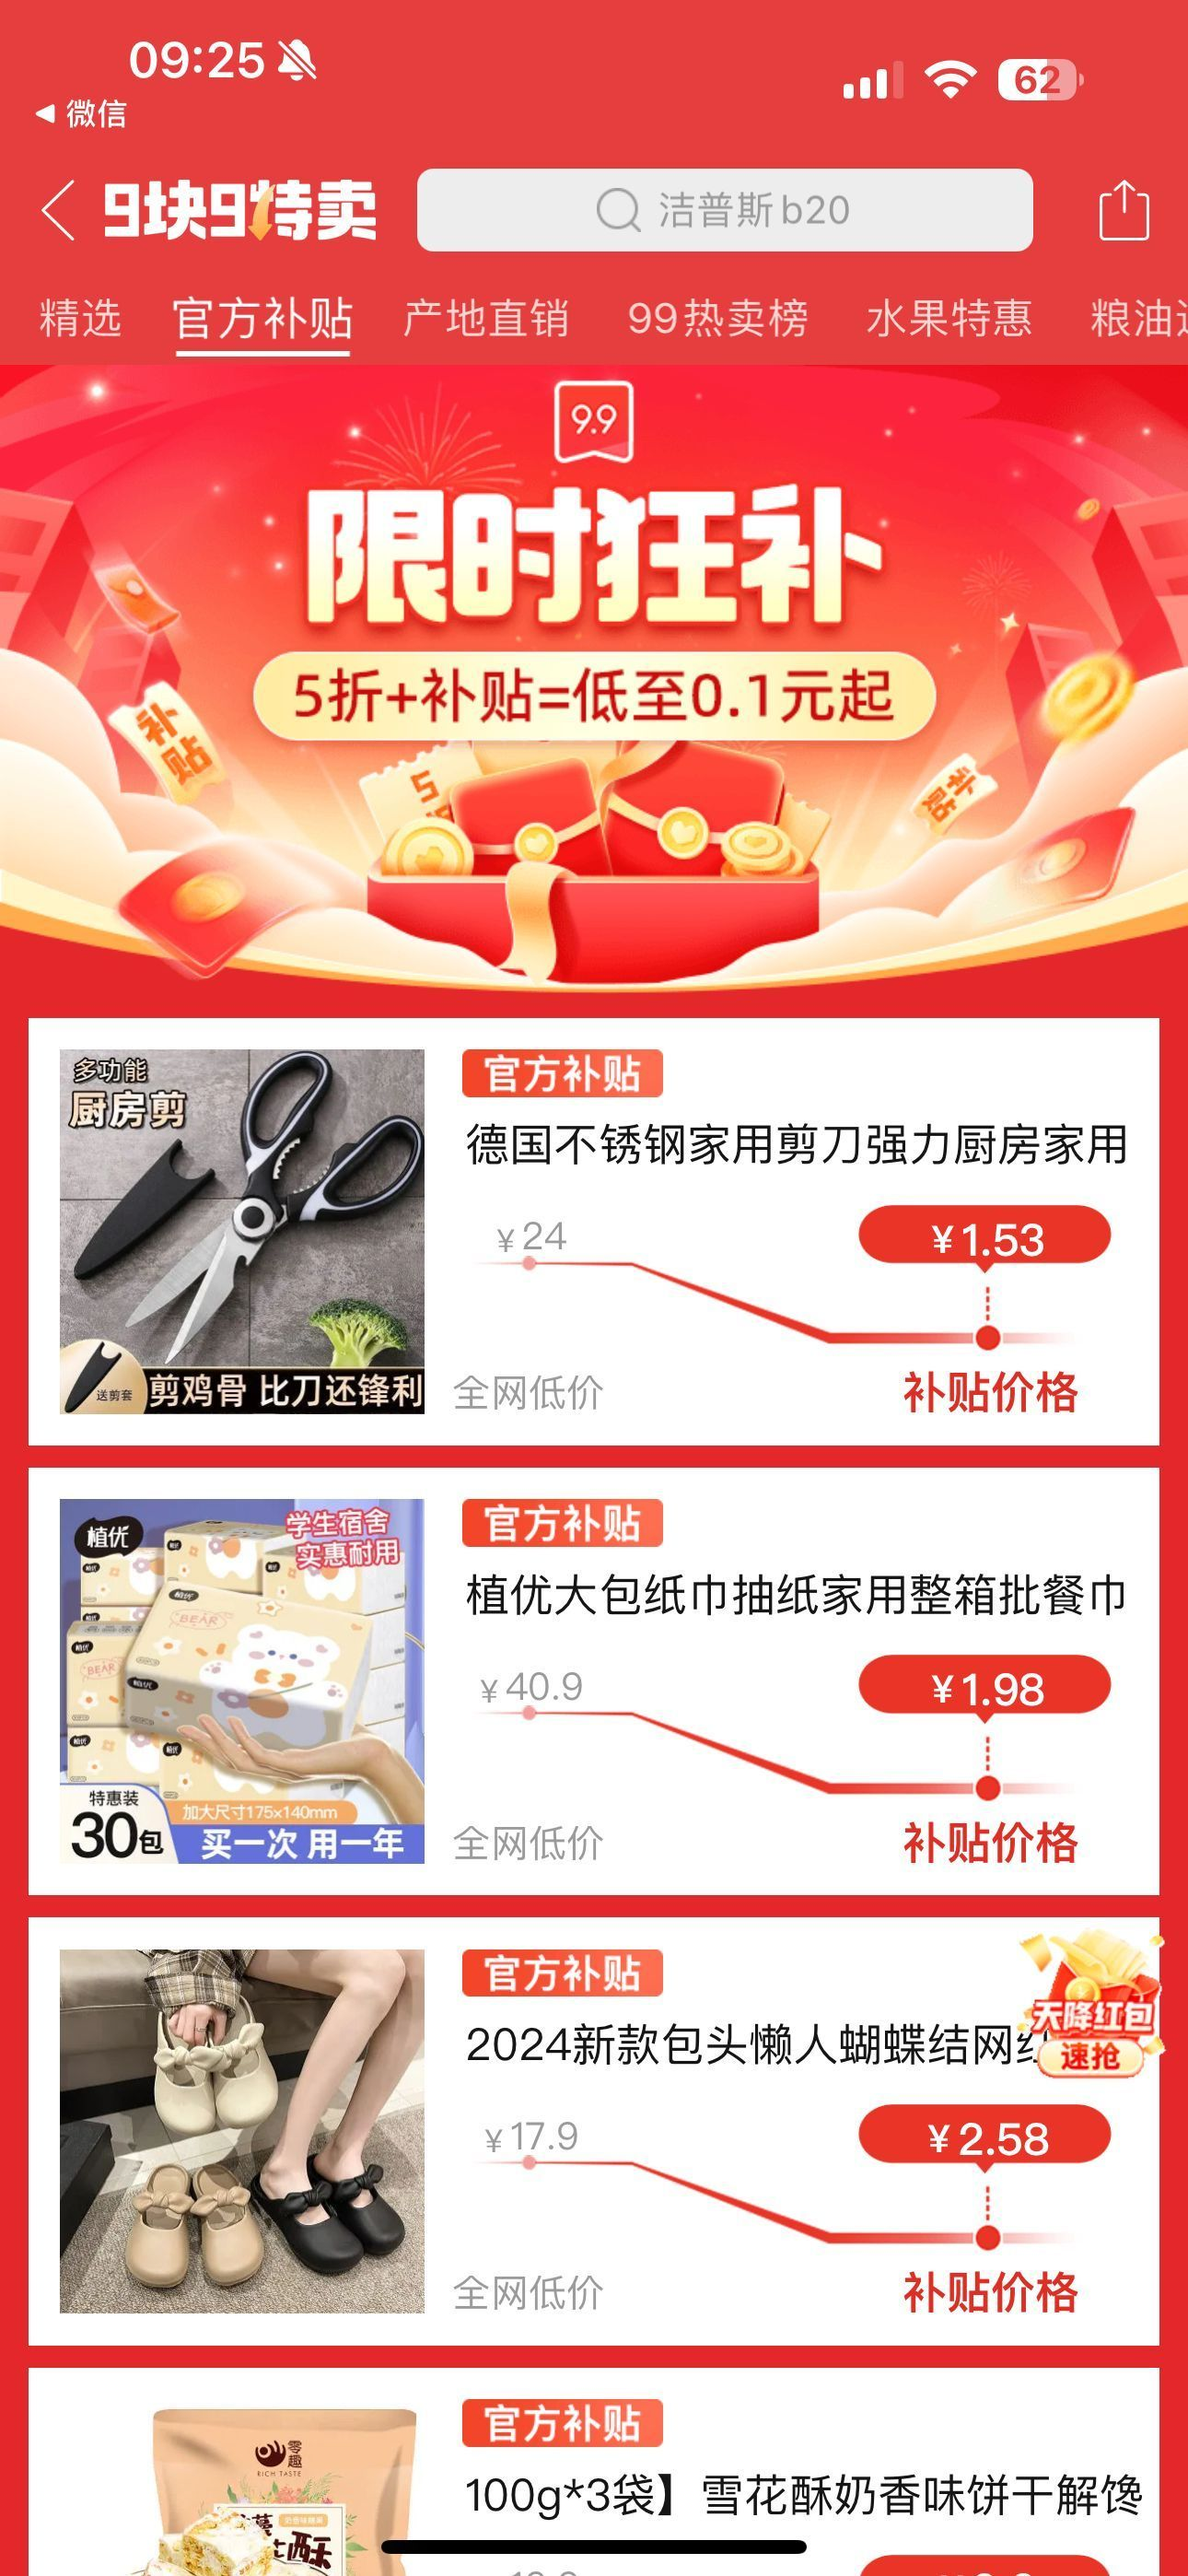item: (2, 1904, 1188, 2367), (7, 1001, 1181, 1452), (3, 1467, 1186, 1904)
op_bar: (10, 156, 1183, 269)
